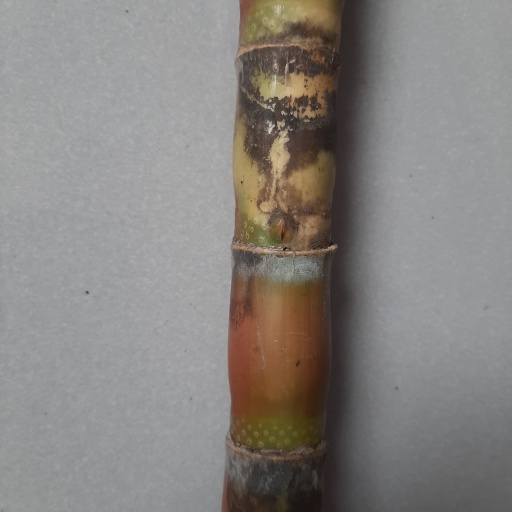Bud: (268, 213, 297, 245)
